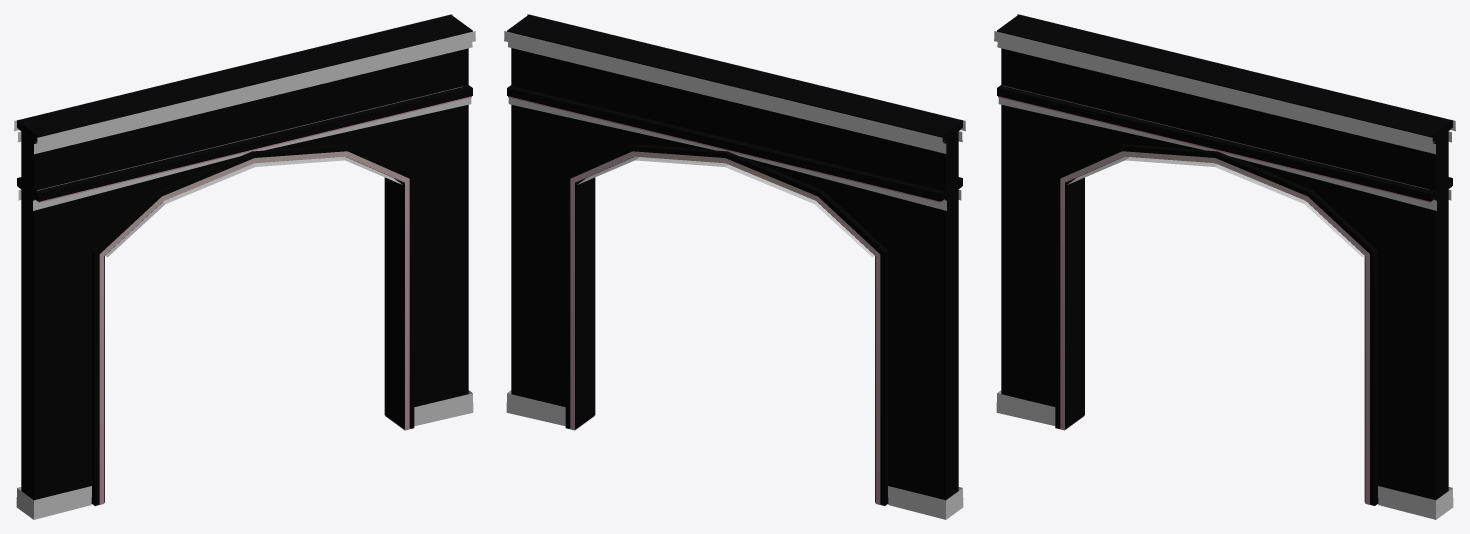
Rendered from Rooms_Paradise_Arc_Art.fbx.
The picture shows the model from 3 angles, left to right: view 1: azimuth 30°, elevation 25°; view 2: azimuth 150°, elevation 25°; view 3: azimuth 330°, elevation 25°; orthographic projection.
Visible parts, largest first — view 1: Rooms_Paradise_Arc_Outline, Rooms_Paradise_Arc_Shadows, Rooms_Paradise_Arc_Art; view 2: Rooms_Paradise_Arc_Outline, Rooms_Paradise_Arc_Shadows, Rooms_Paradise_Arc_Art; view 3: Rooms_Paradise_Arc_Outline, Rooms_Paradise_Arc_Shadows, Rooms_Paradise_Arc_Art.
Part boxes in pixels (x1,y1,x2,y2): Rooms_Paradise_Arc_Outline: (17,14,472,505); Rooms_Paradise_Arc_Shadows: (14,14,475,519); Rooms_Paradise_Arc_Art: (18,86,471,505); Rooms_Paradise_Arc_Outline: (507,14,962,505); Rooms_Paradise_Arc_Shadows: (504,14,965,519); Rooms_Paradise_Arc_Art: (508,96,961,505); Rooms_Paradise_Arc_Outline: (997,14,1452,505); Rooms_Paradise_Arc_Shadows: (994,14,1455,519); Rooms_Paradise_Arc_Art: (998,85,1451,505).
Size of the model in its own units: 424 by 355 by 38.63.
